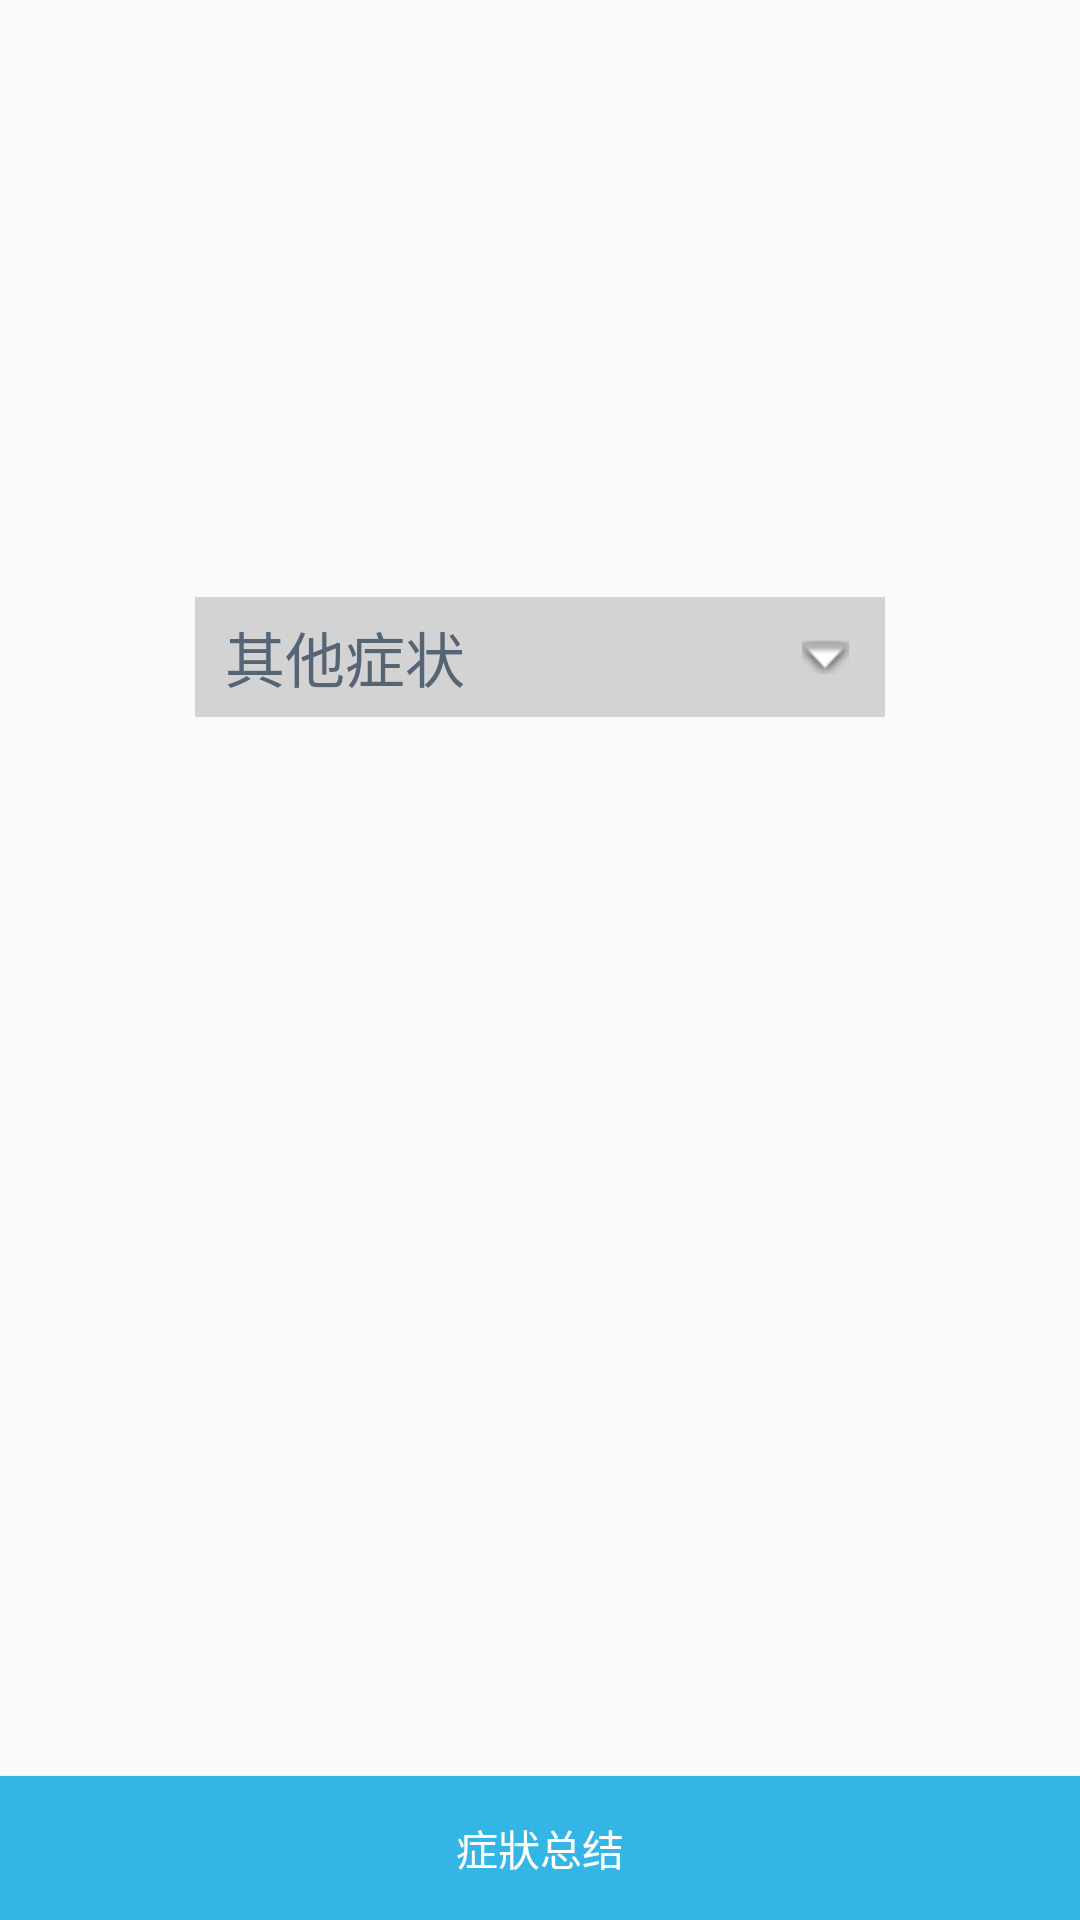

Screen size 1080px x 1920px. Icon name, then its box in pixels as (x1=x1, y1=y1, x2=x2, y2=y2):
arrow down float: (x1=802, y1=641, x2=849, y2=672)
